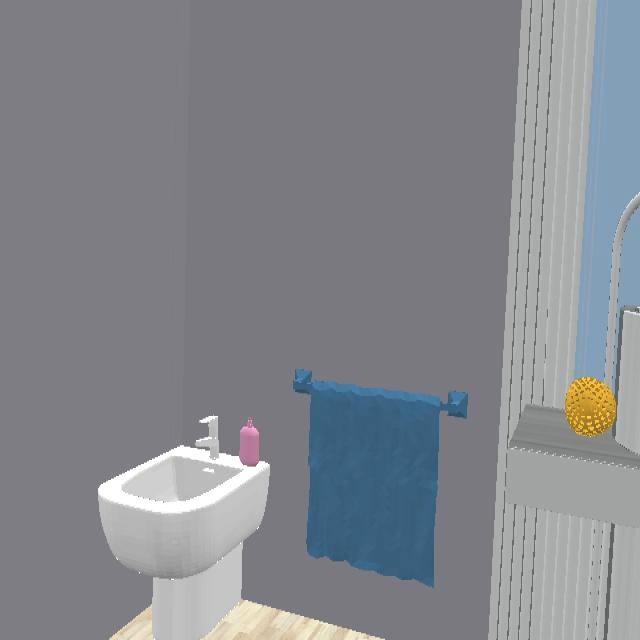washbasin: (606, 195, 640, 457)
